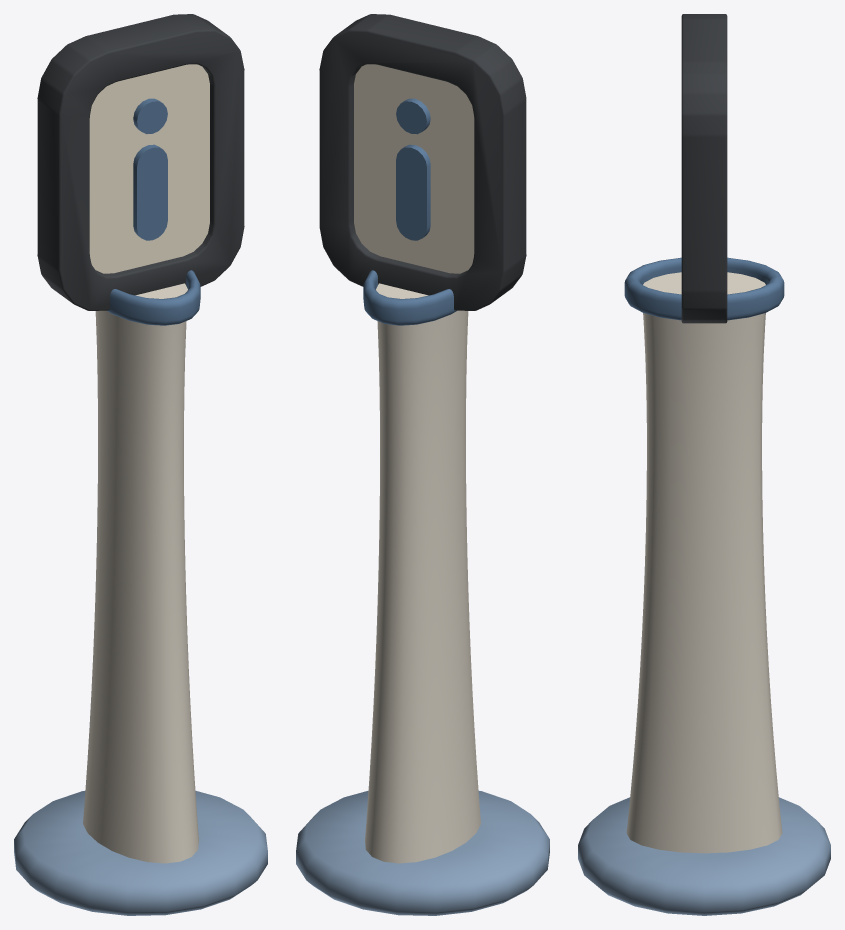
Rendered from borne_info.glb.
3 renders of one model, left to right at view 1: azimuth 30°, elevation 25°; view 2: azimuth 150°, elevation 25°; view 3: azimuth 270°, elevation 25°, orthographic.
Parts seen in each view (by area): view 1: INF_Borne; view 2: INF_Borne; view 3: INF_Borne.
Part boxes in pixels (bbox=[...]): INF_Borne: bbox=[14, 14, 267, 915]; INF_Borne: bbox=[296, 14, 549, 915]; INF_Borne: bbox=[578, 14, 830, 915].
Bounding box in the file's own units: 0.5 × 1.8 × 0.5.
